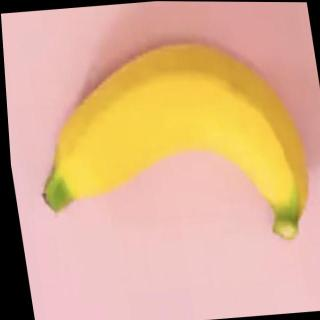banana: (17, 29, 318, 263)
